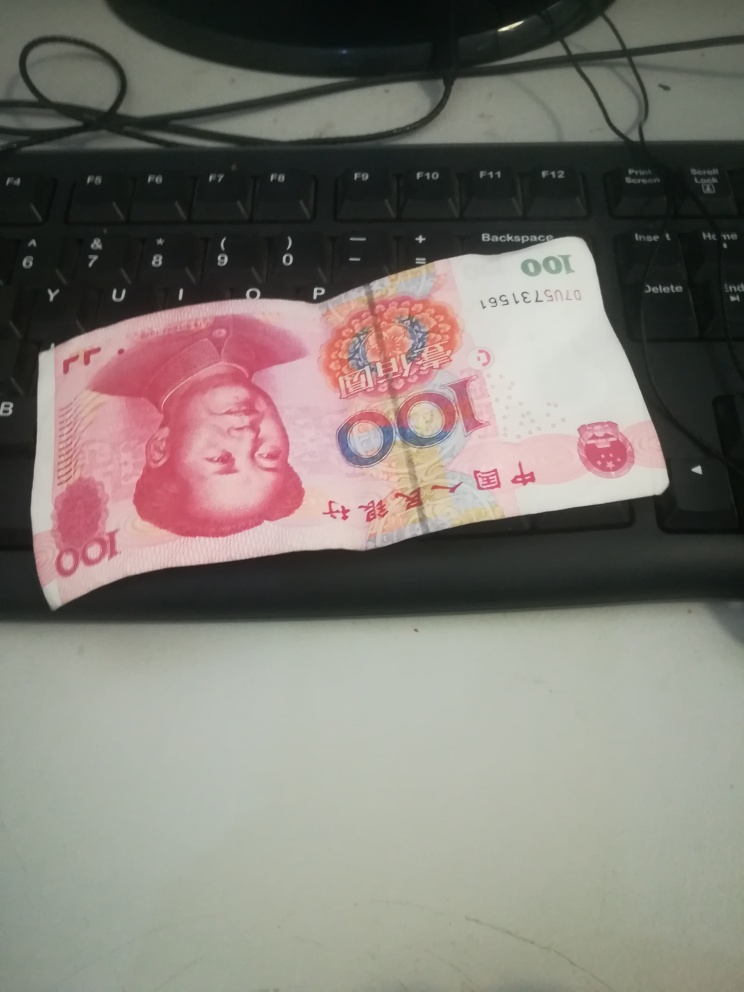rmb: (30, 230, 678, 612)
